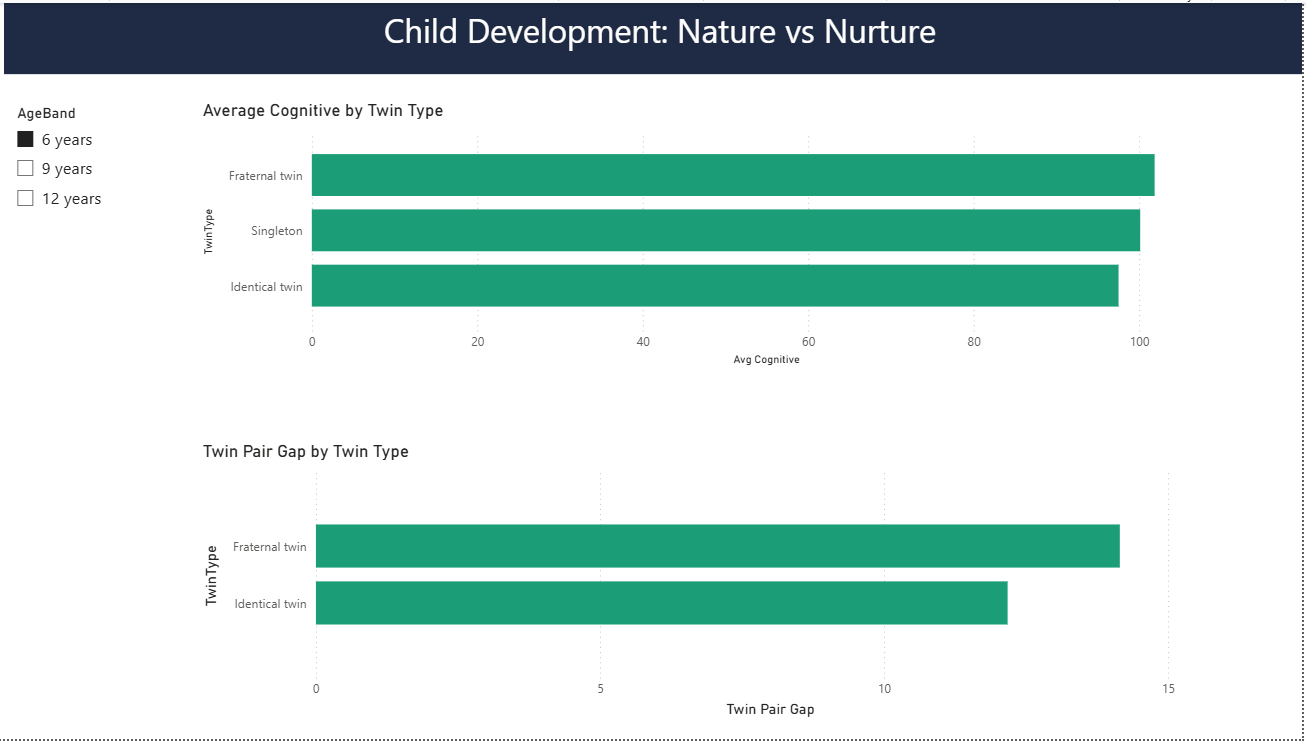

Layout of this report page (visuals, bound fields, positions):
{"tool":"powerbi","page":{"name":"Twin Study","canvas":[1280,720],"ordinal":2},"visuals":[{"type":"shape","box":[9.5,0,1270.5,69.7],"z":0},{"type":"textbox","box":[377,0,583,57],"z":1000},{"type":"slicer","fields":{"Values":["tblAgeBands.AgeBand"]},"box":[9.8,94.2,141.8,117.4],"z":2000},{"type":"clusteredBarChart","title":"Average Cognitive by Twin Type","fields":{"Category":["tblChildren.TwinType"],"Y":["_Measures.Avg Cognitive"]},"box":[199,94.6,1017,265.7],"z":3000},{"type":"clusteredBarChart","title":"Twin Pair Gap by Twin Type","fields":{"Category":["tblChildren.TwinType"],"Y":["_Measures.Twin Pair Gap"]},"box":[199,428.5,1017,275.5],"z":4000}]}

Visuals, with their boxes in screenshot pixels (x1, y1, x2, y2), scaled from the page's 1280x720 canvas onto the 1306x741 screenshot:
shape: box(10, 0, 1305, 72)
textbox: box(385, 0, 980, 59)
slicer - tblAgeBands.AgeBand: box(10, 97, 155, 218)
"Average Cognitive by Twin Type" clusteredBarChart: box(203, 97, 1241, 371)
"Twin Pair Gap by Twin Type" clusteredBarChart: box(203, 441, 1241, 725)
